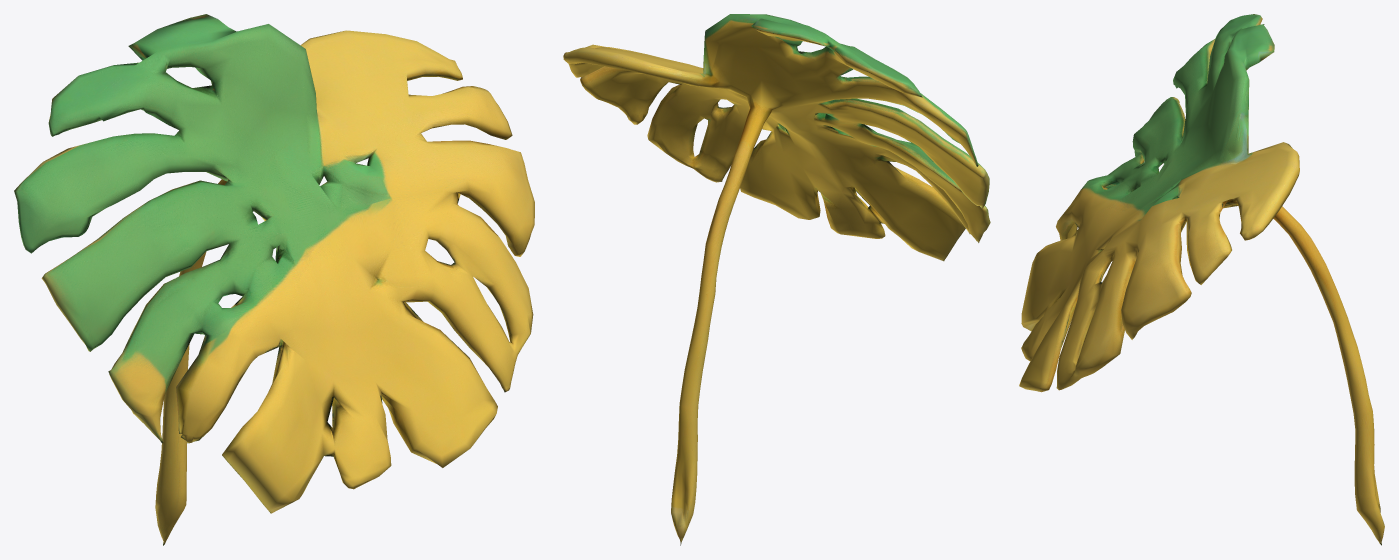
Rendered from mon_variegata_gold.glb.
3 renders of one model, left to right at view 1: azimuth 30°, elevation 25°; view 2: azimuth 150°, elevation 25°; view 3: azimuth 270°, elevation 25°, orthographic. The views are drawn at different scales.
Bounding box in the file's own units: 1.75 × 2 × 1.36.
Materials: 1 (1 with a texture image).
